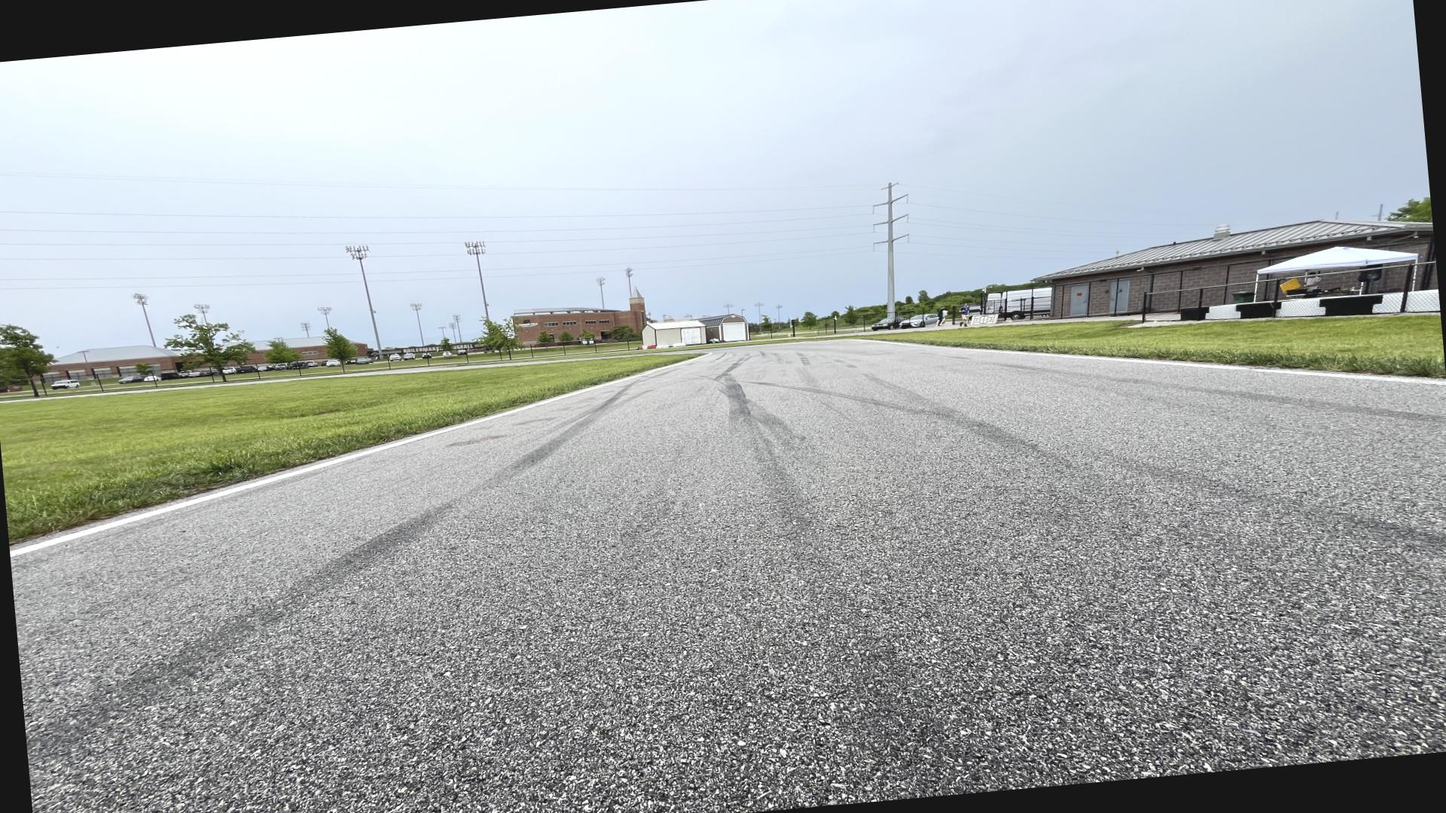white-line: (10, 352, 711, 560), (787, 340, 1445, 385)
